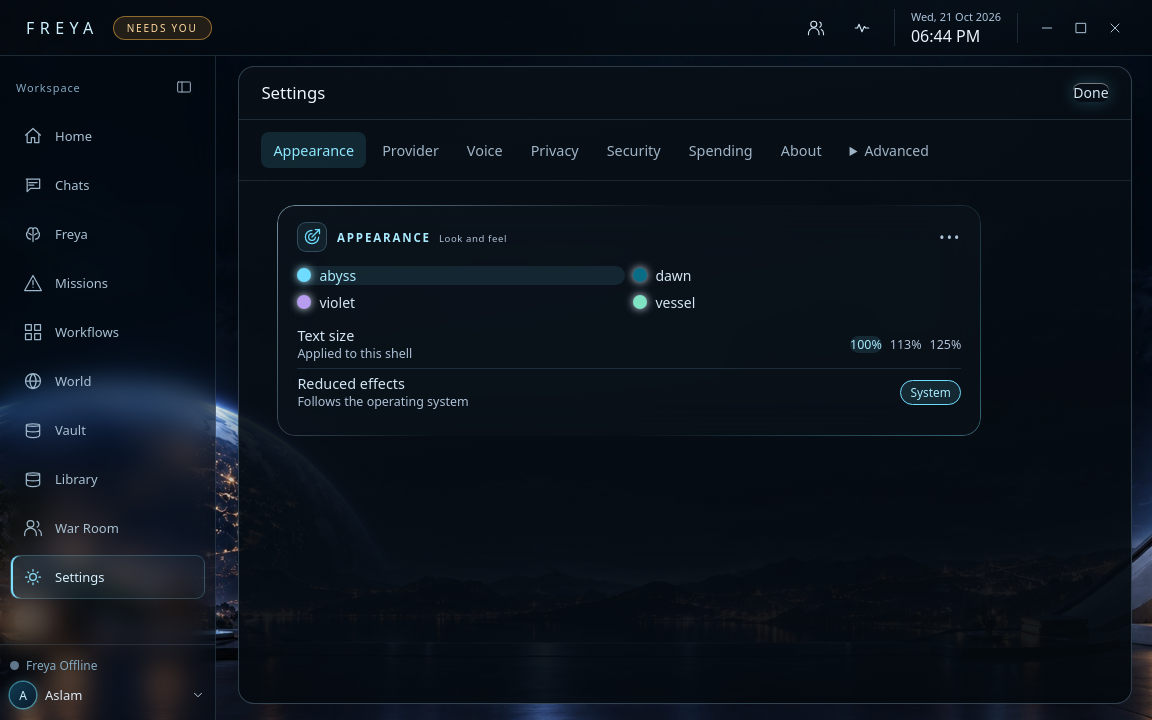
the shipping primary destinations › keeps Advanced collapsed in Settings and moves Skills and Foundry to War Room
Click the heading "Advanced" at (897, 150), box [864,141,929,160]
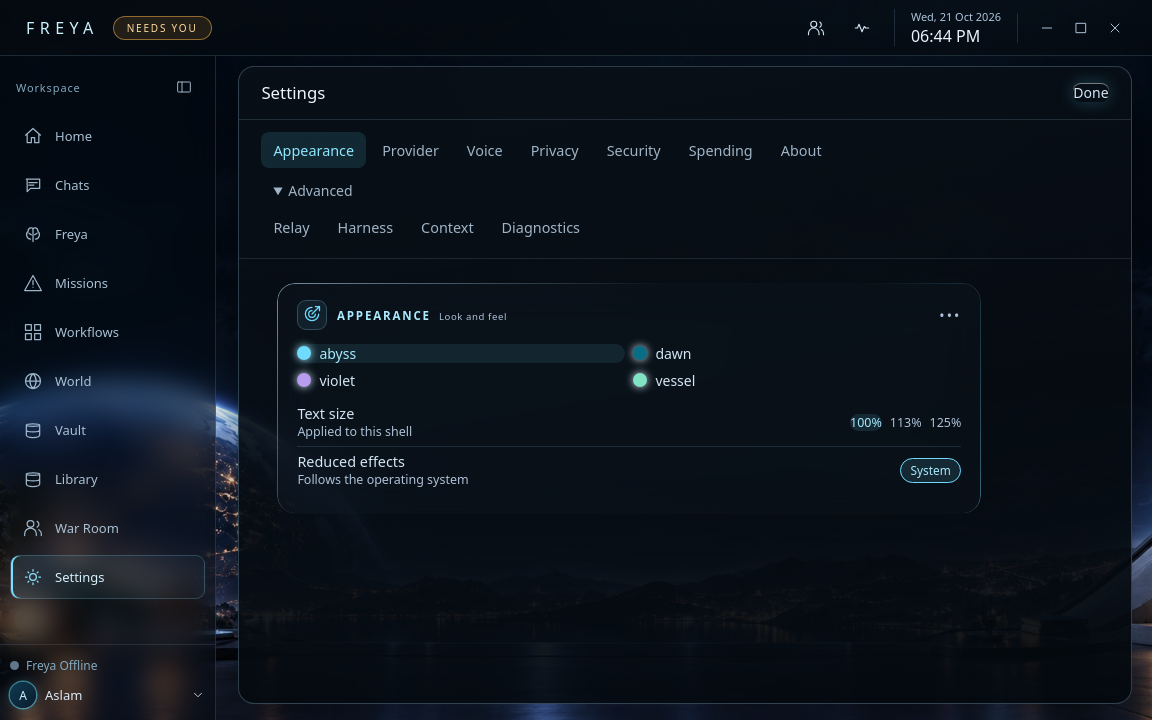
Expected: the button "Skills" is not shown
Click the button "War Room" at (108, 528), box [10,506,205,550]
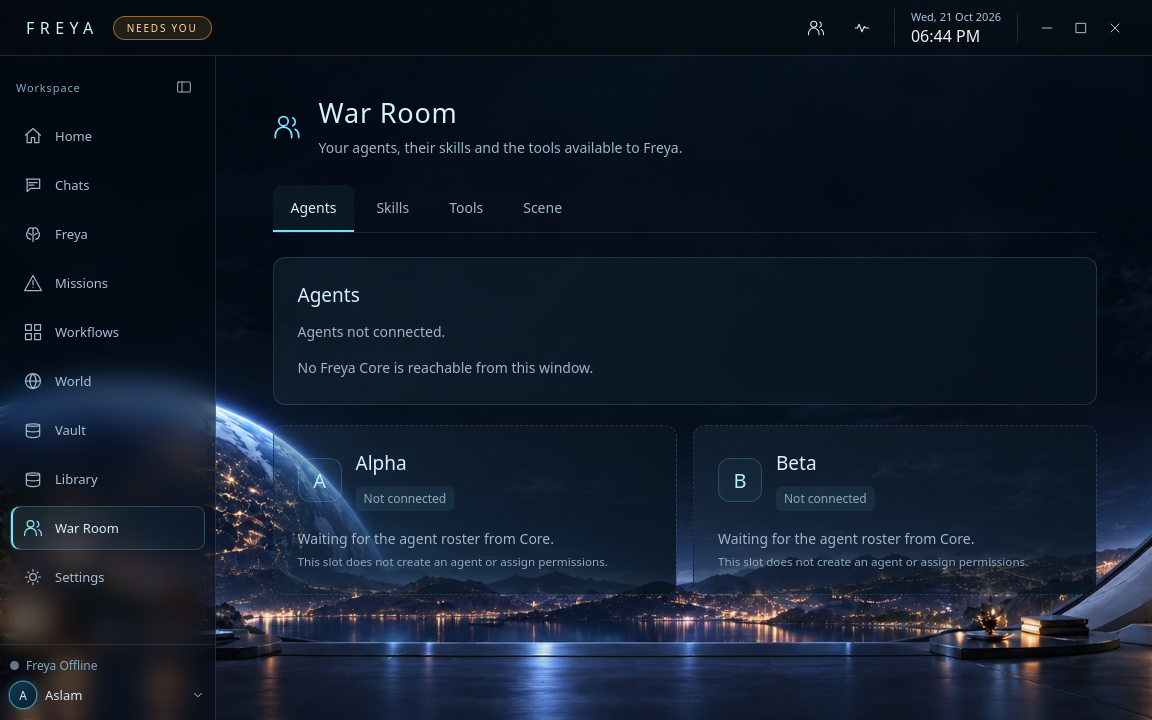
Click the tab "Tools" at (466, 209), box [431,185,501,232]
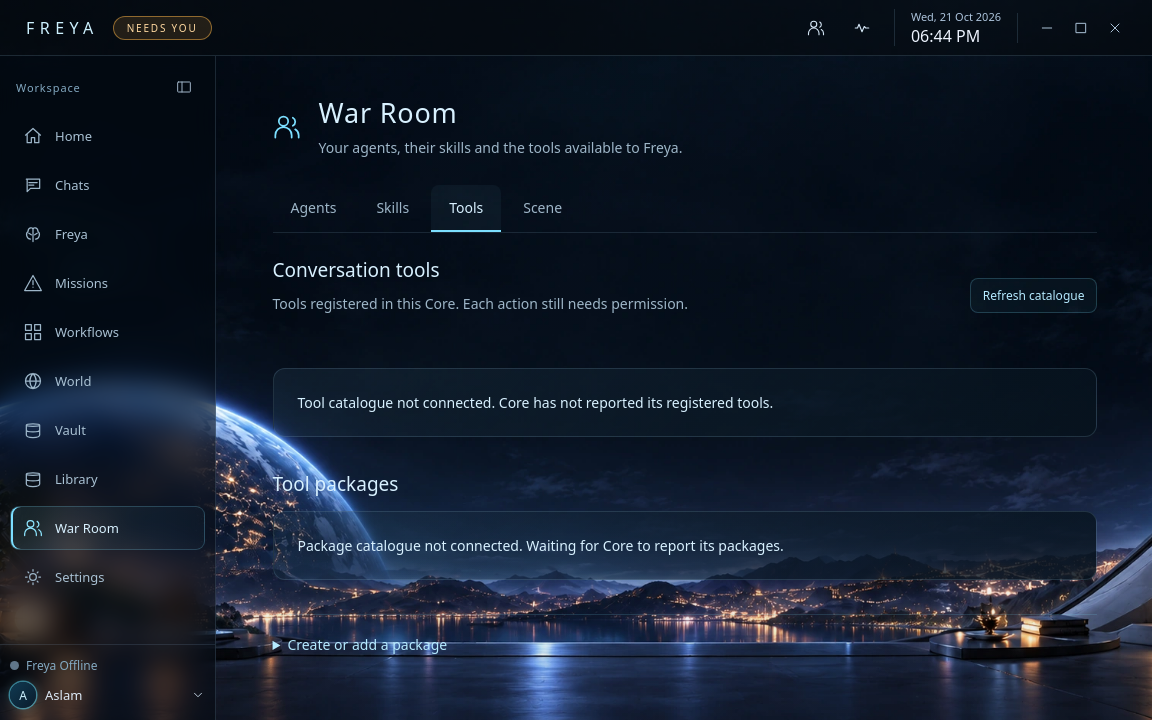
Expected: the panel "tools" shows "Create or add a package", [287,635,447,654]
